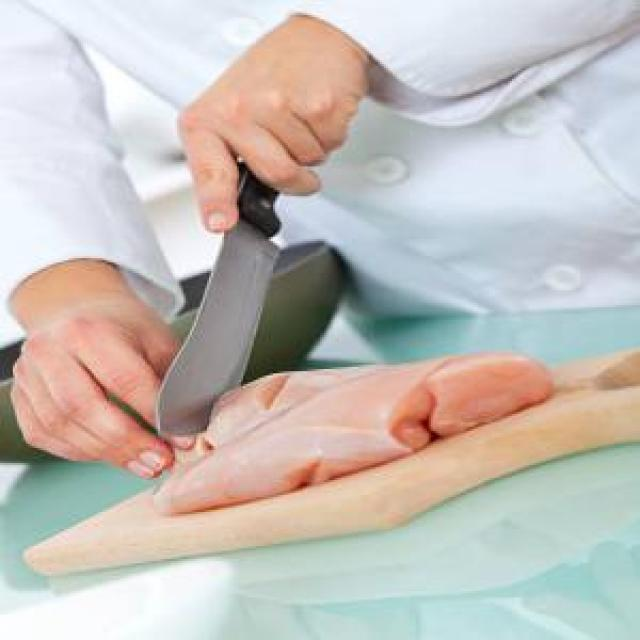knife: (147, 124, 292, 444)
